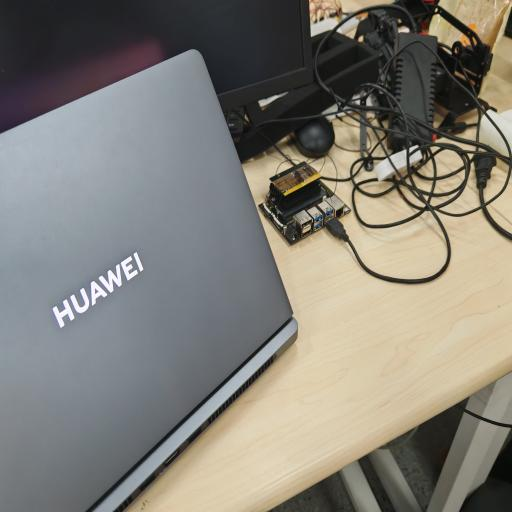laptop: (0, 50, 297, 512)
mouse: (294, 117, 334, 157)
